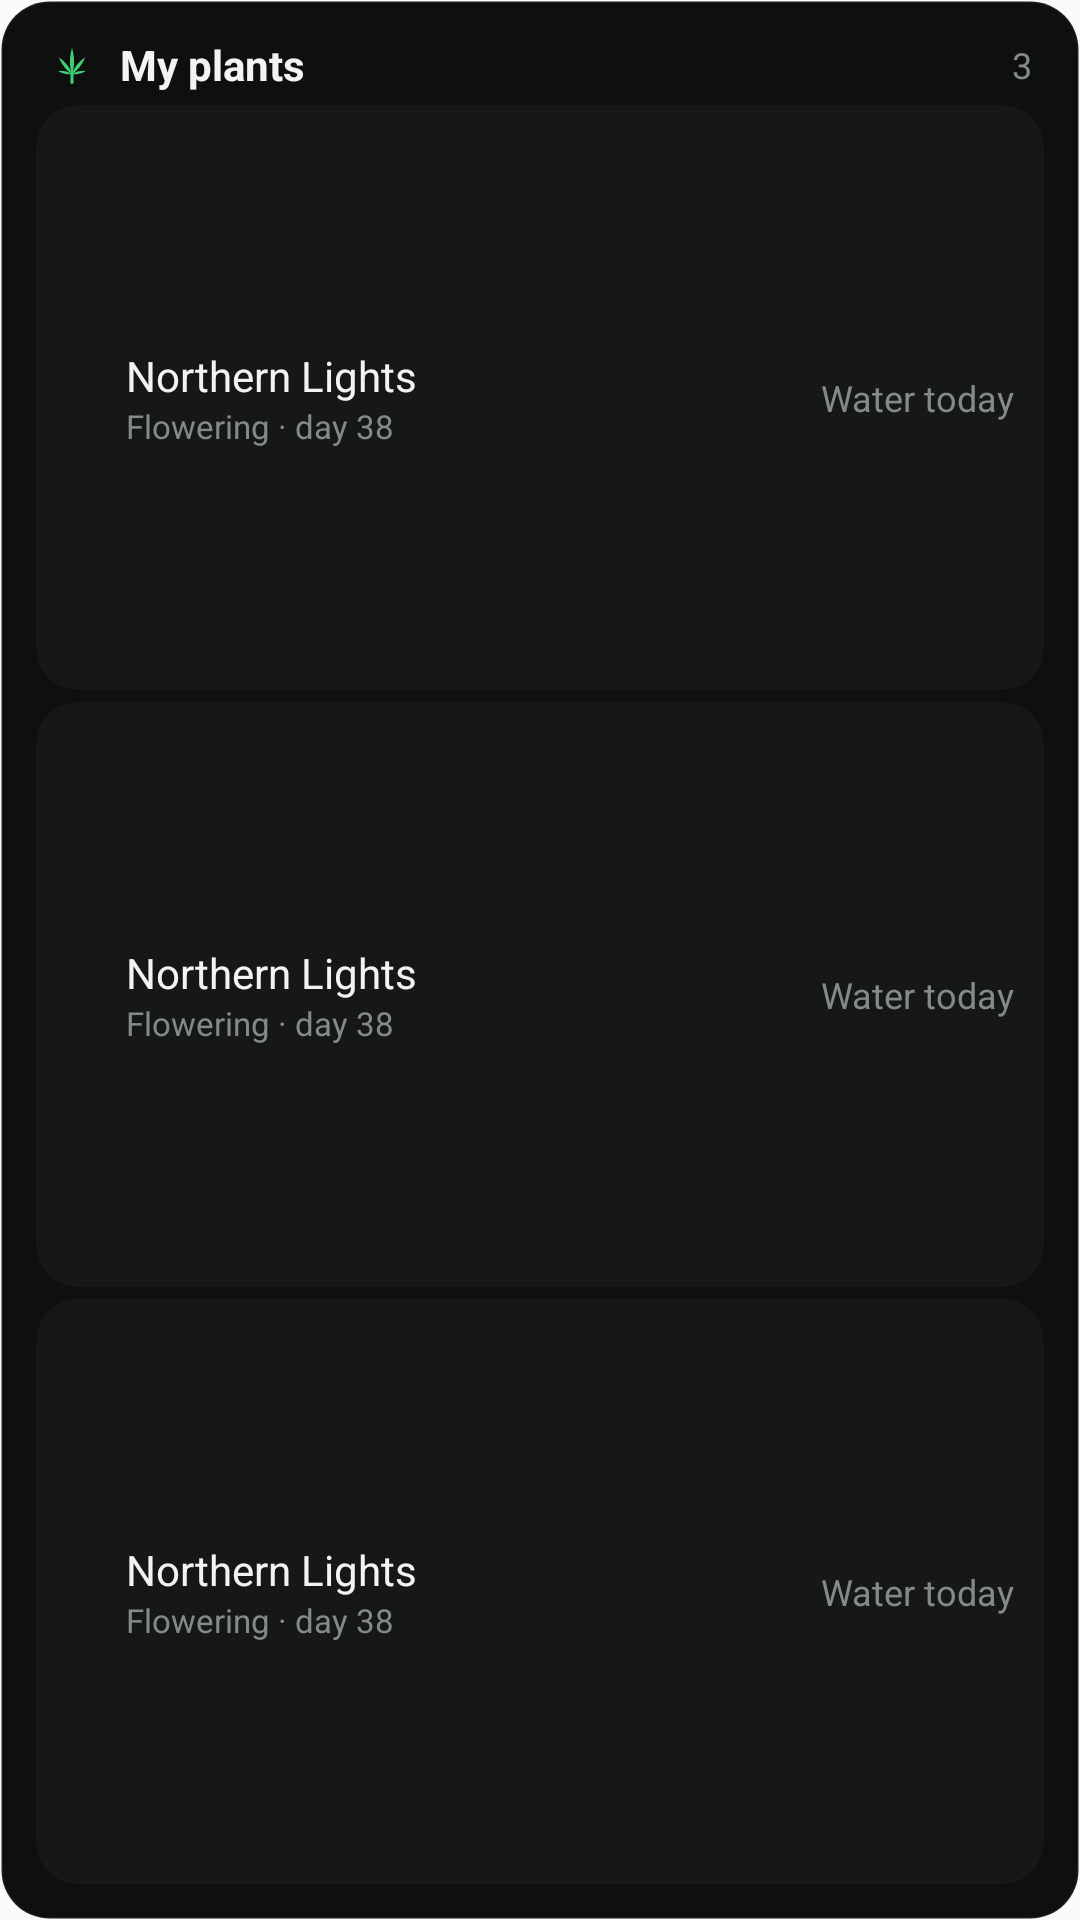

Named icons in this screenshot (1080 x 1920) and their bounding boxes, (x1, y1, x2, y2):
widget leaf glyph: (58, 48, 86, 84)
